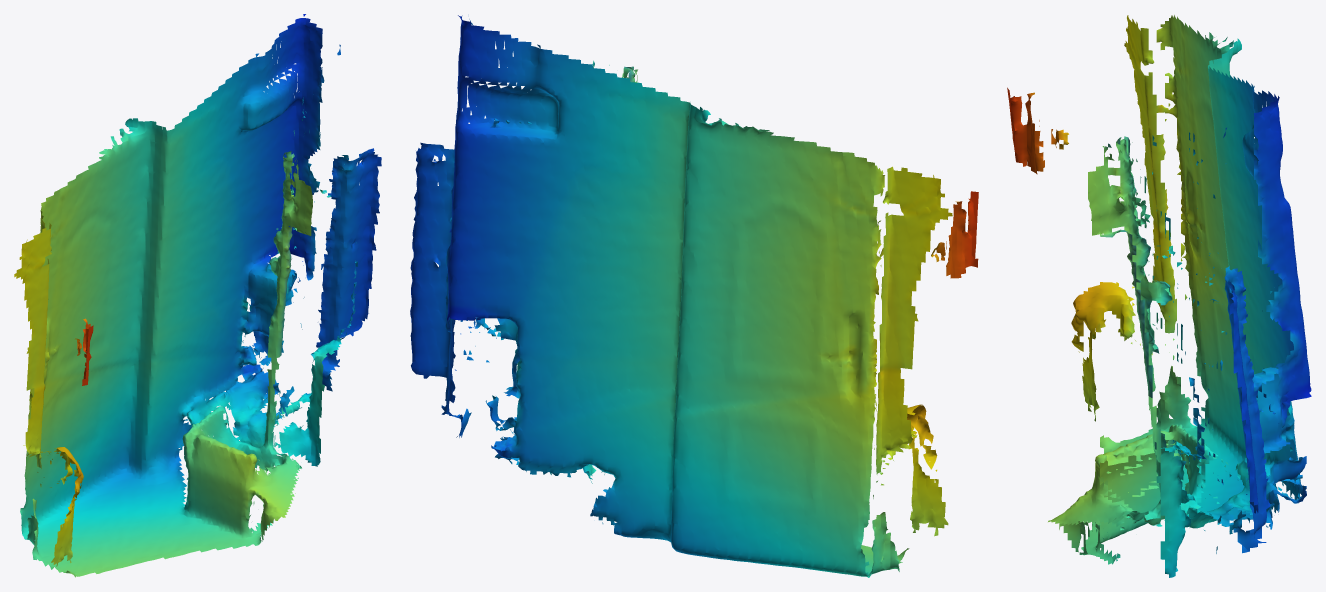
File: fusion_model_final.obj
The picture shows the model from 3 angles, left to right: view 1: azimuth 30°, elevation 25°; view 2: azimuth 150°, elevation 25°; view 3: azimuth 270°, elevation 25°; orthographic projection. The views are drawn at different scales.
Bounding box in the file's own units: 2.84 × 2.91 × 1.5.
